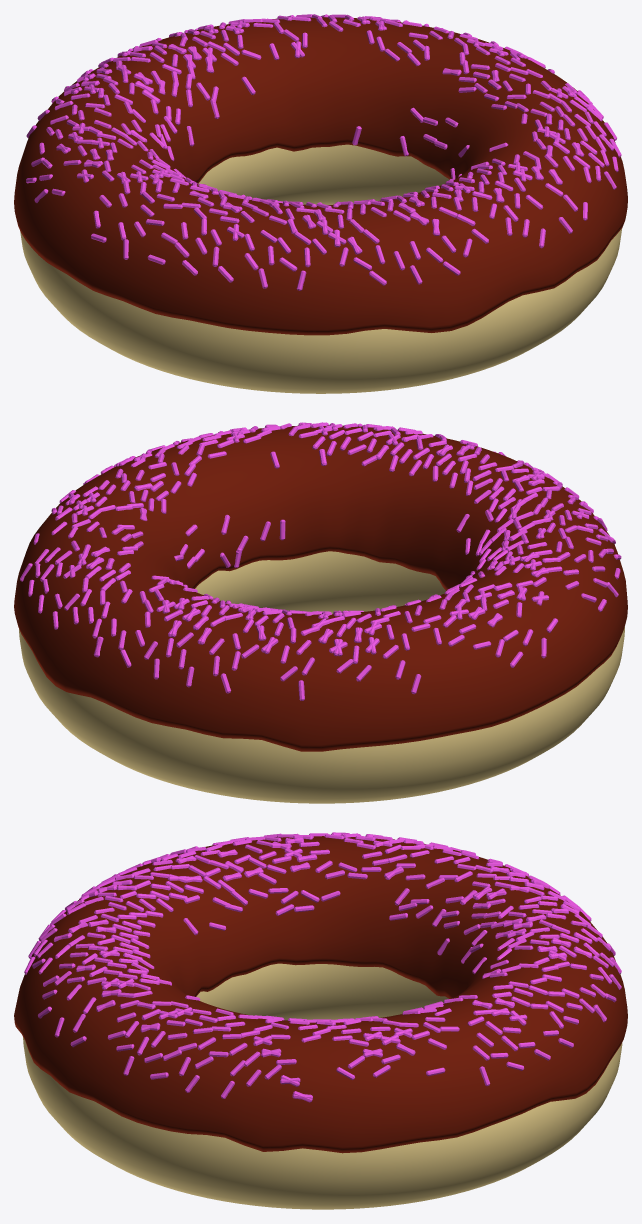
File: donut.gltf
3 renders of one model, top to bottom at view 1: azimuth 30°, elevation 25°; view 2: azimuth 150°, elevation 25°; view 3: azimuth 270°, elevation 25°, orthographic.
Parts seen in each view (by area): view 1: Icing, Donut; view 2: Icing, Donut; view 3: Icing, Donut.
Boxes of the visible parts, x1,y1,x2,y2 form: Icing: [14, 17, 627, 335]; Donut: [20, 144, 622, 393]; Icing: [14, 425, 627, 751]; Donut: [19, 551, 624, 803]; Icing: [14, 836, 627, 1153]; Donut: [23, 963, 622, 1209].
Size of the model in its own units: 2.75 by 0.8742 by 2.77.
